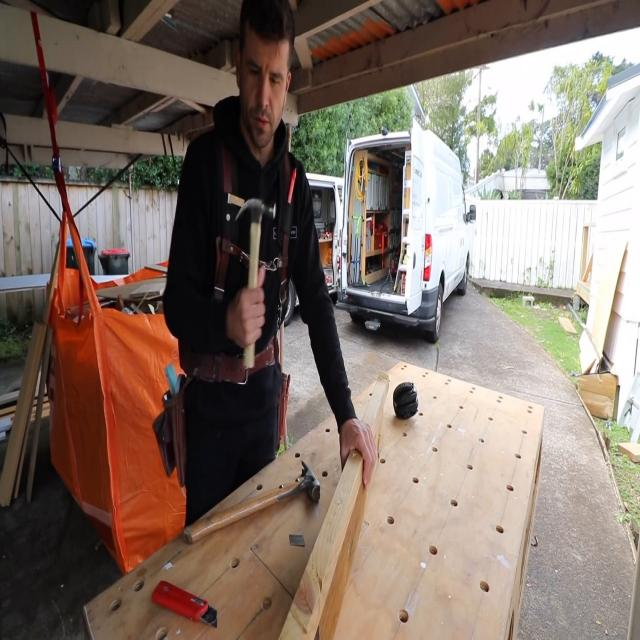hammer: (183, 462, 322, 547), (234, 199, 275, 370)
